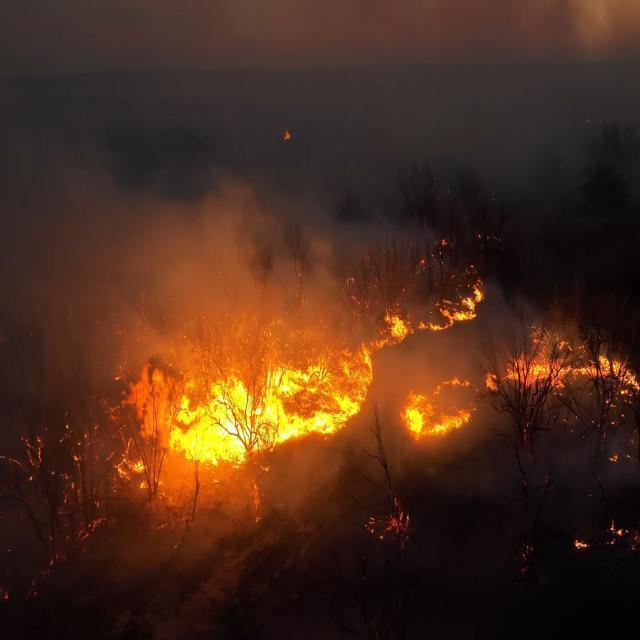Fire: (246, 345, 373, 472), (135, 352, 246, 483), (504, 332, 613, 390), (405, 376, 471, 446)
Smoke: (0, 144, 231, 316)
